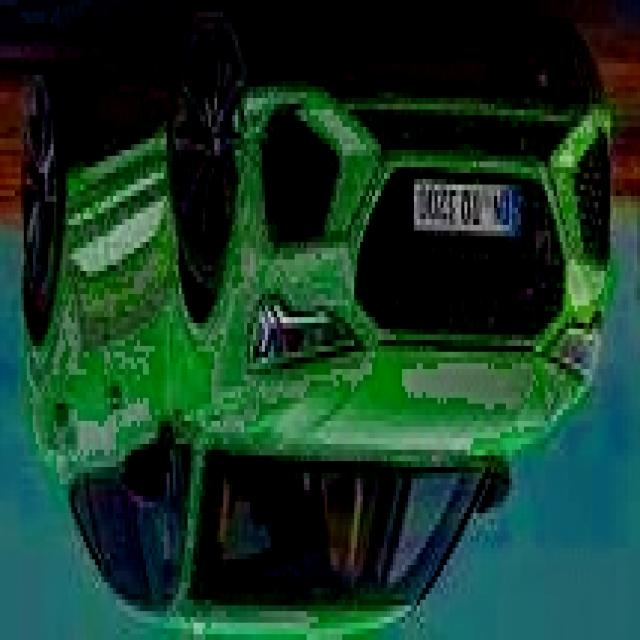green: (0, 0, 608, 629)
